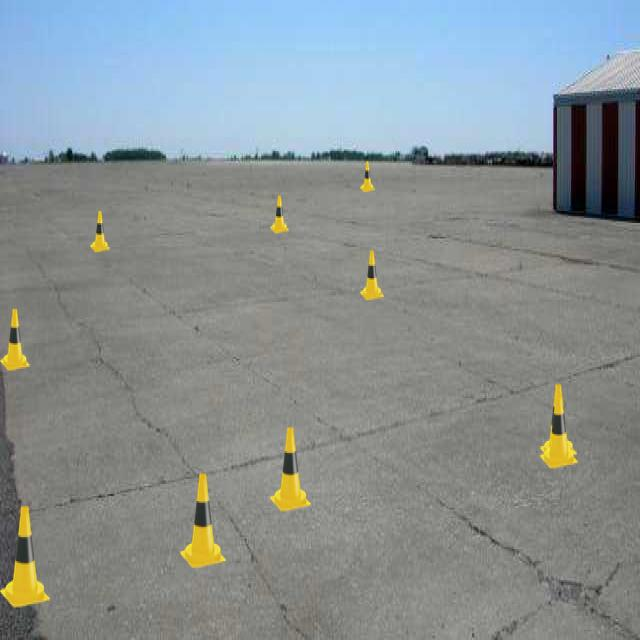yellow_cone: (0, 507, 50, 608), (180, 474, 226, 568), (270, 428, 311, 512), (540, 392, 578, 468), (540, 384, 577, 460), (0, 308, 30, 371), (360, 250, 384, 300), (90, 211, 110, 252), (270, 196, 289, 233), (360, 161, 375, 192)
